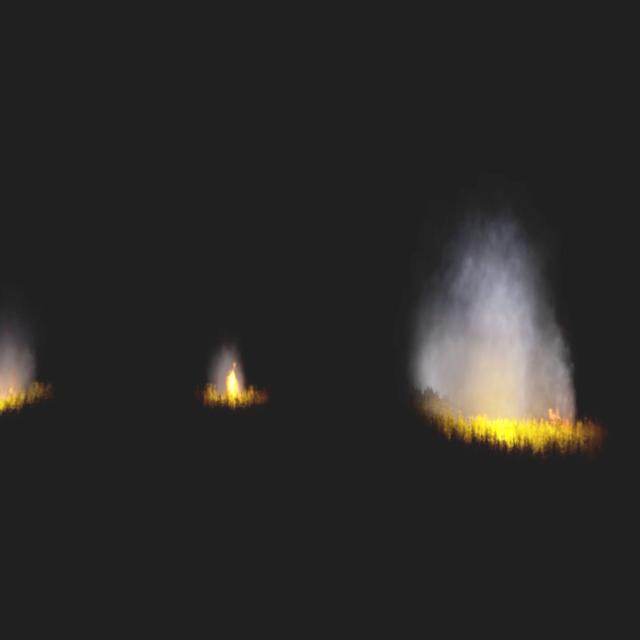fire: (428, 392, 596, 447), (224, 368, 246, 394)
smoke: (411, 202, 590, 429), (213, 349, 250, 402), (0, 337, 32, 394)
